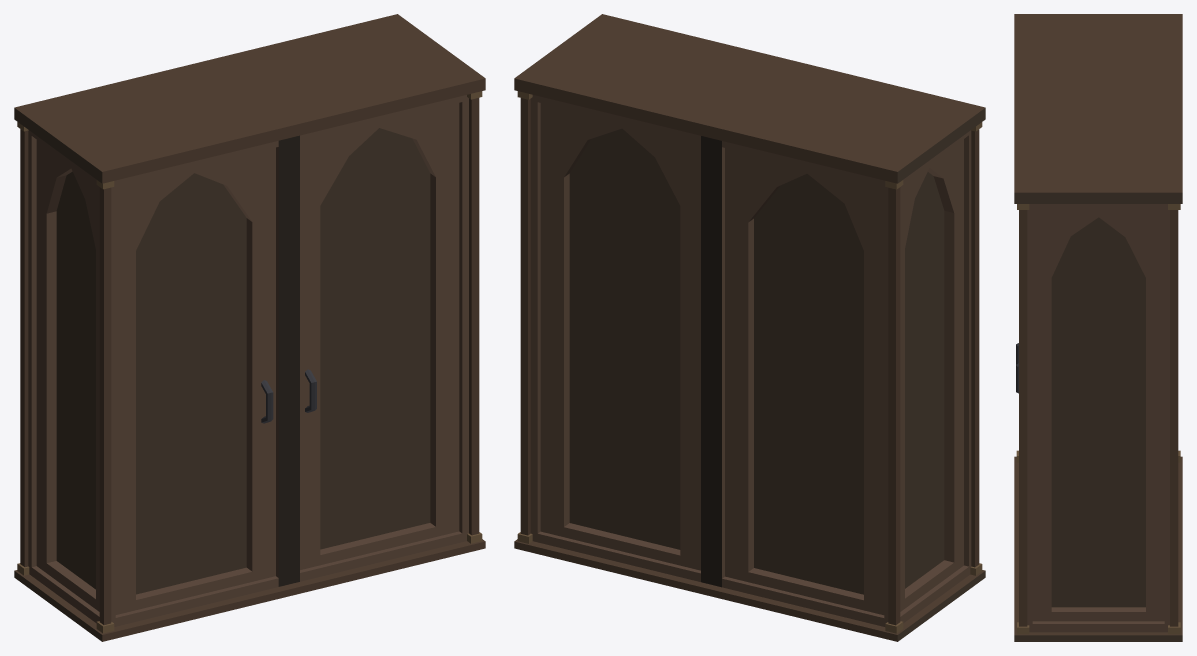
The model's file is WardRobe_1.fbx.
3 renders of one model, left to right at view 1: azimuth 30°, elevation 25°; view 2: azimuth 150°, elevation 25°; view 3: azimuth 270°, elevation 25°, orthographic. The views are drawn at different scales.
Visible parts, largest first — view 1: pCube2445; view 2: pCube2445; view 3: pCube2445.
Boxes of the visible parts, x1=… form: pCube2445: x1=14, y1=14, x2=485, y2=641; pCube2445: x1=514, y1=14, x2=985, y2=641; pCube2445: x1=1014, y1=14, x2=1182, y2=641.
Bounding box in the file's own units: 175 × 205 × 69.64.
